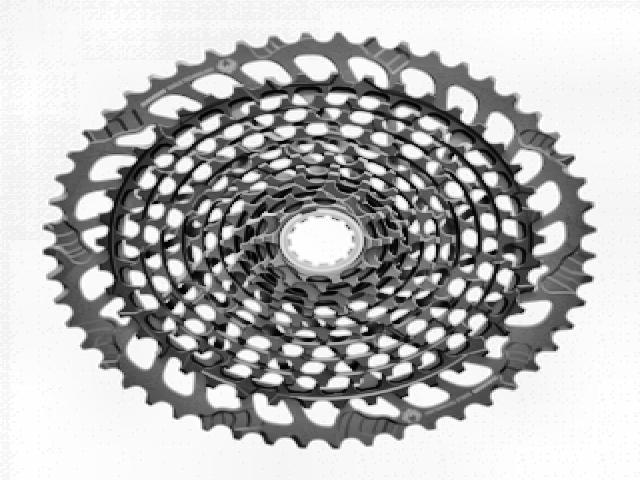cassette: (40, 33, 600, 451)
